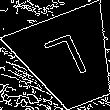L_SE: (42, 31, 96, 90)
